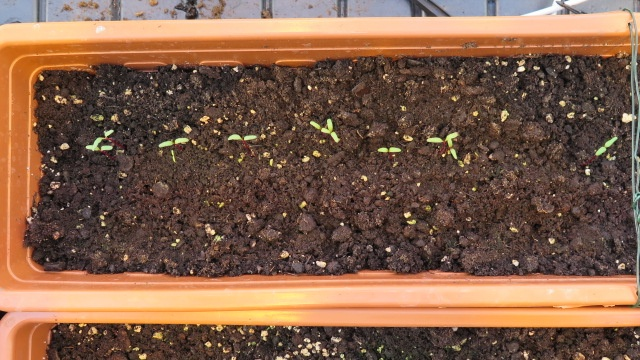crop: (448, 127, 465, 171), (593, 134, 620, 157), (324, 112, 341, 147), (154, 135, 194, 149), (80, 142, 116, 157), (426, 137, 467, 149), (222, 132, 263, 143), (90, 131, 128, 142), (308, 119, 326, 137), (373, 144, 403, 154)
